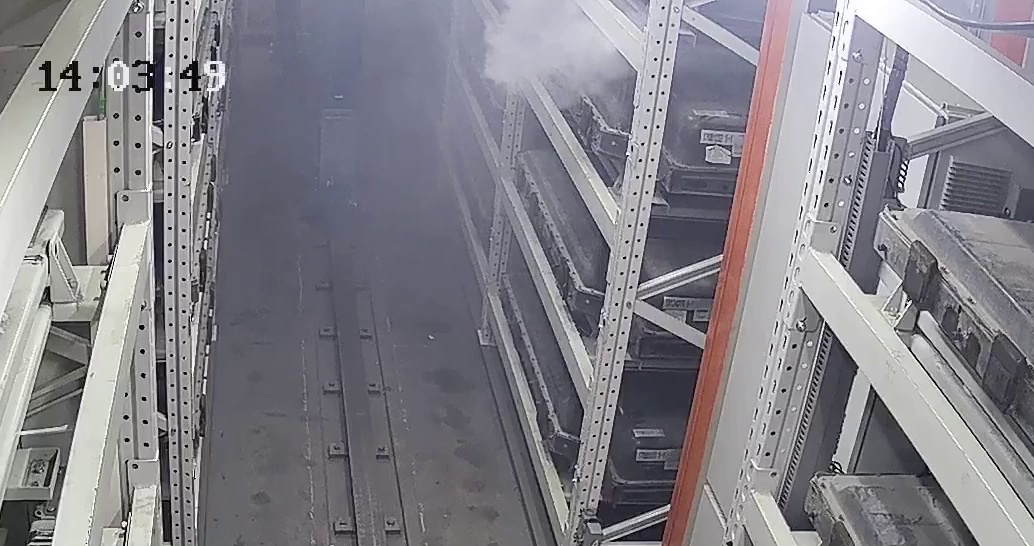smoke: (477, 9, 619, 106)
